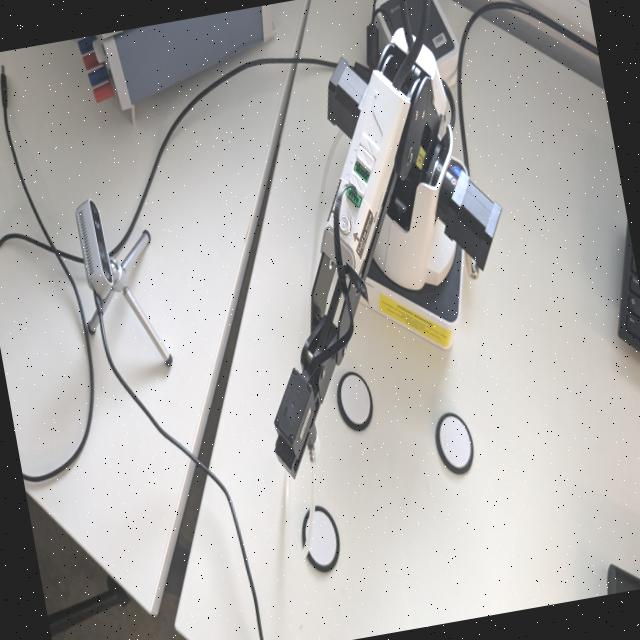Robot-end-effector-HF8z: (256, 357, 332, 486)
